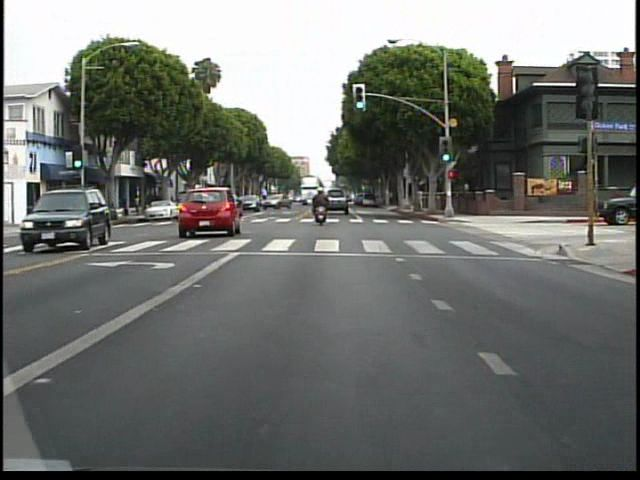car: (22, 188, 109, 246), (178, 178, 237, 238), (143, 196, 172, 221), (265, 191, 292, 209)
striscie pedonali: (99, 237, 542, 261), (329, 216, 443, 222), (249, 215, 314, 224)
